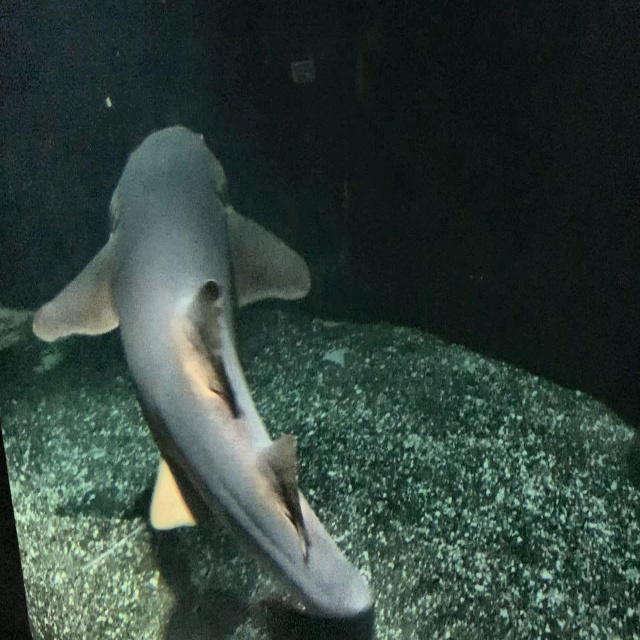shark: (31, 120, 379, 628)
